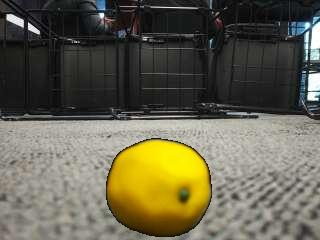lemon: (107, 138, 212, 237)
